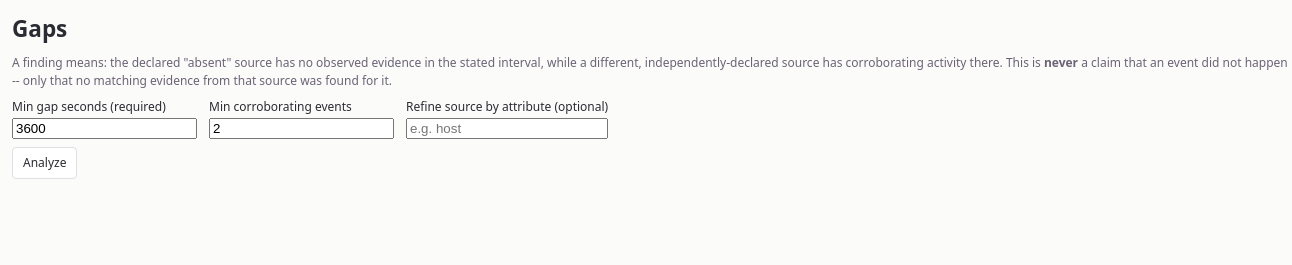
Test: GapsPanel › never renders findings as "did not happen" -- only "no matching evidence"
Click the button "Analyze": (45, 163) [12,147,78,179]
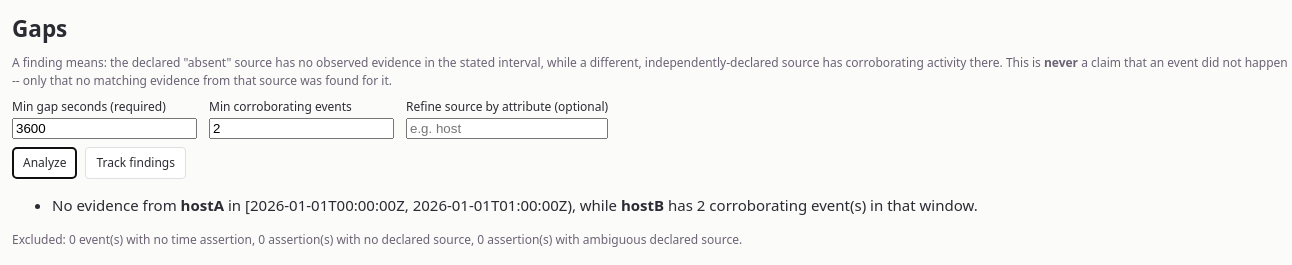
Expected: the element with test id "gaps-result" does not show "did not happen"
Expected: the element with test id "gaps-result" shows "No evidence from hostA", [12,195,978,248]
